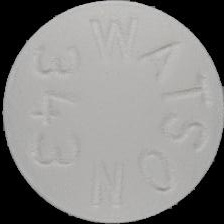0904-2920: (0, 0, 224, 224)
